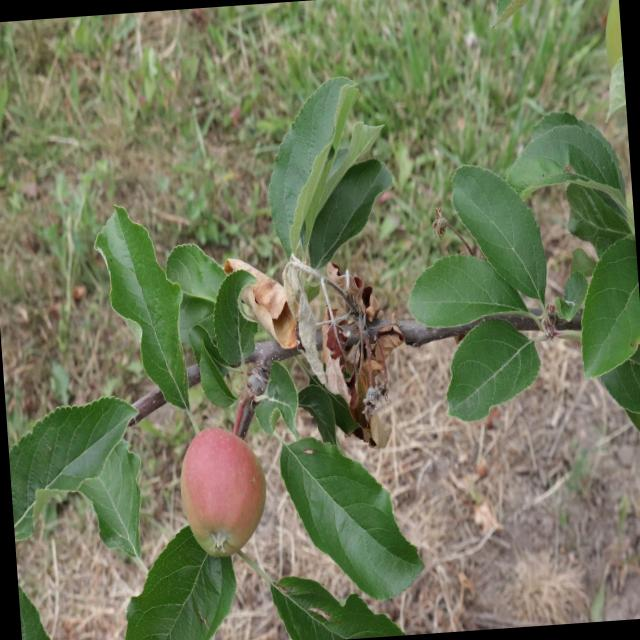-FireBlight-: (216, 214, 397, 448)
